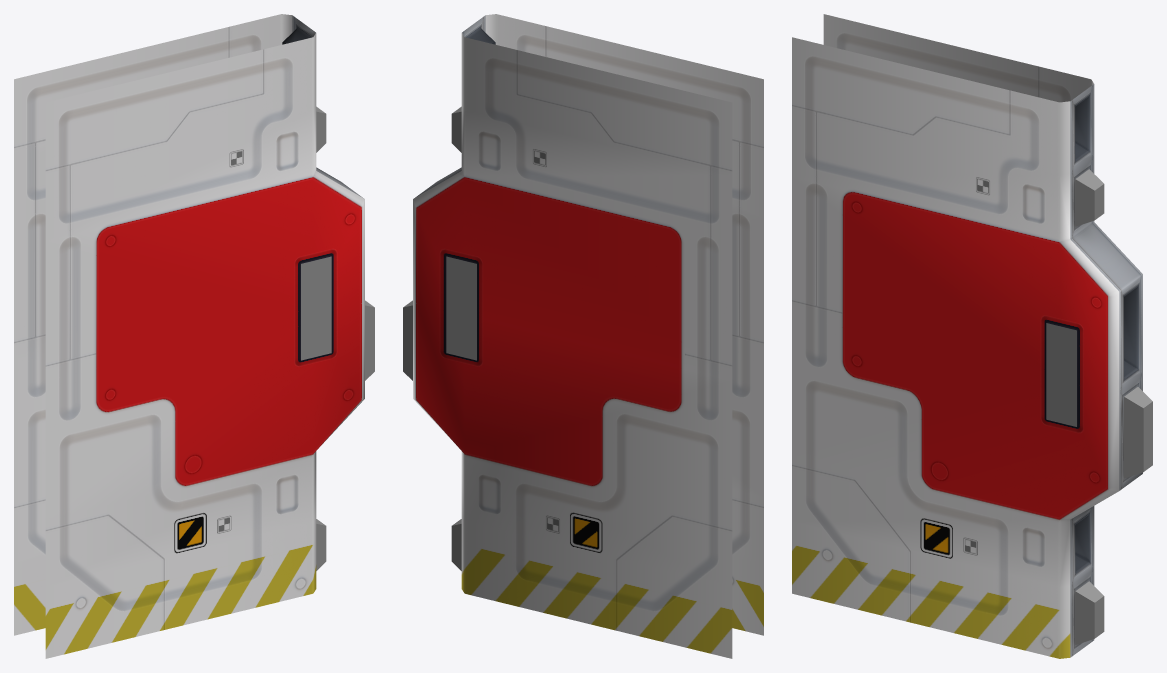
Rendered from Blast_Door_left_nowindow.fbx.
3 renders of one model, left to right at view 1: azimuth 30°, elevation 25°; view 2: azimuth 150°, elevation 25°; view 3: azimuth 330°, elevation 25°, orthographic.
Parts seen in each view (by area): view 1: Blast_Door_no_window_left; view 2: Blast_Door_no_window_left; view 3: Blast_Door_no_window_left.
Boxes of the visible parts, x1=… form: Blast_Door_no_window_left: x1=14, y1=14, x2=374, y2=658; Blast_Door_no_window_left: x1=403, y1=14, x2=763, y2=658; Blast_Door_no_window_left: x1=792, y1=14, x2=1152, y2=658.
Size of the model in its own units: 198 by 310 by 32.91.
Materials: 4 (1 with a texture image).
